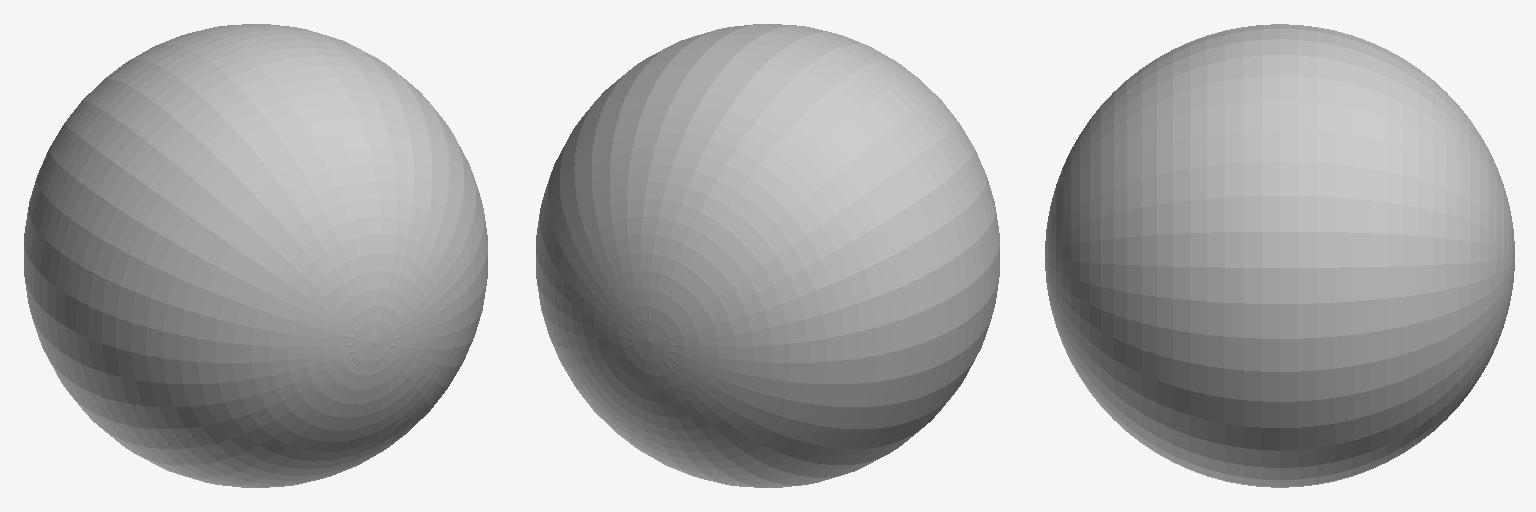
File: Atomica_aBall.obj
3 renders of one model, left to right at view 1: azimuth 30°, elevation 25°; view 2: azimuth 150°, elevation 25°; view 3: azimuth 270°, elevation 25°, orthographic.
Visible parts, largest first — view 1: Atomica_aBall:Atomica_ball Atomica_aBall:Atomica_logo Atomica_aB; view 2: Atomica_aBall:Atomica_ball Atomica_aBall:Atomica_logo Atomica_aB; view 3: Atomica_aBall:Atomica_ball Atomica_aBall:Atomica_logo Atomica_aB.
Part boxes in pixels (x1,y1,x2,y2): Atomica_aBall:Atomica_ball Atomica_aBall:Atomica_logo Atomica_aB: (24,24,487,487); Atomica_aBall:Atomica_ball Atomica_aBall:Atomica_logo Atomica_aB: (536,24,999,487); Atomica_aBall:Atomica_ball Atomica_aBall:Atomica_logo Atomica_aB: (1045,24,1514,487).
Size of the model in its own units: 3.49 by 3.49 by 3.55.